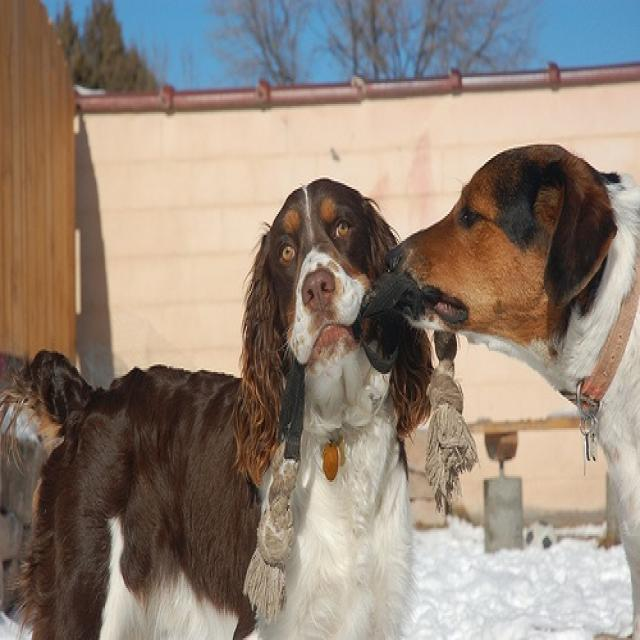dog: (5, 166, 448, 636), (381, 139, 639, 630)
